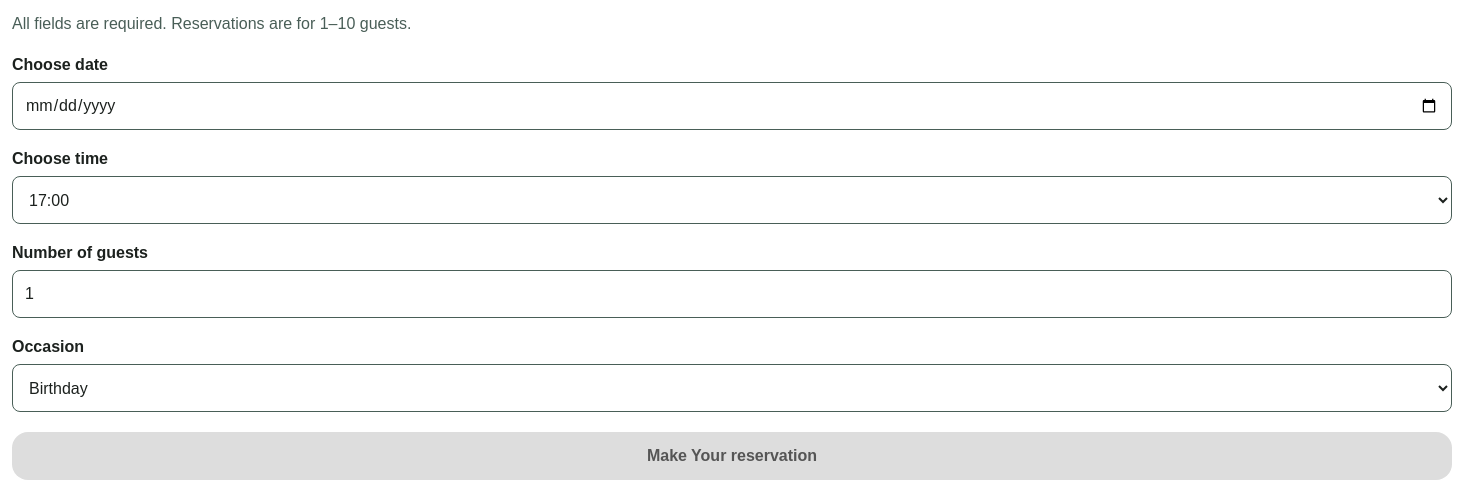
it: submits a valid booking for 10 guests
Later steps or results of the test are not shown.
Type "2026-11-20" into the date field labelled "Choose date" at (732, 106), box [12,82,1452,130]
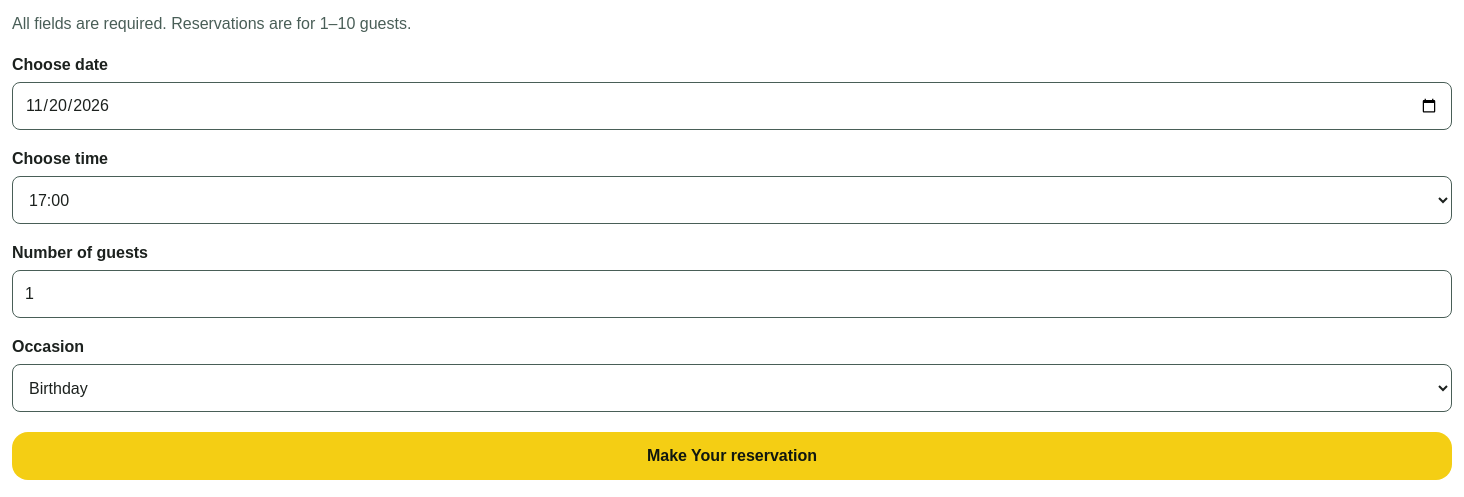
Select "18:00" in the dropdown labelled "Choose time" at (732, 200), box [12,176,1452,224]
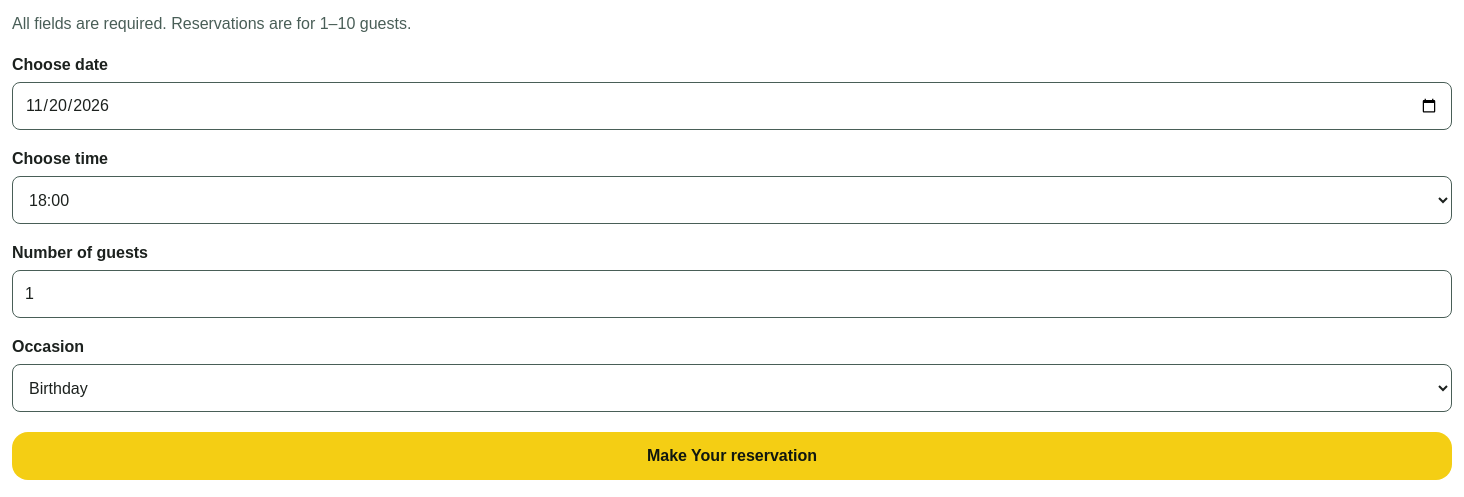
Type "10" into the number field labelled "Number of guests" at (732, 294), box [12,270,1452,318]
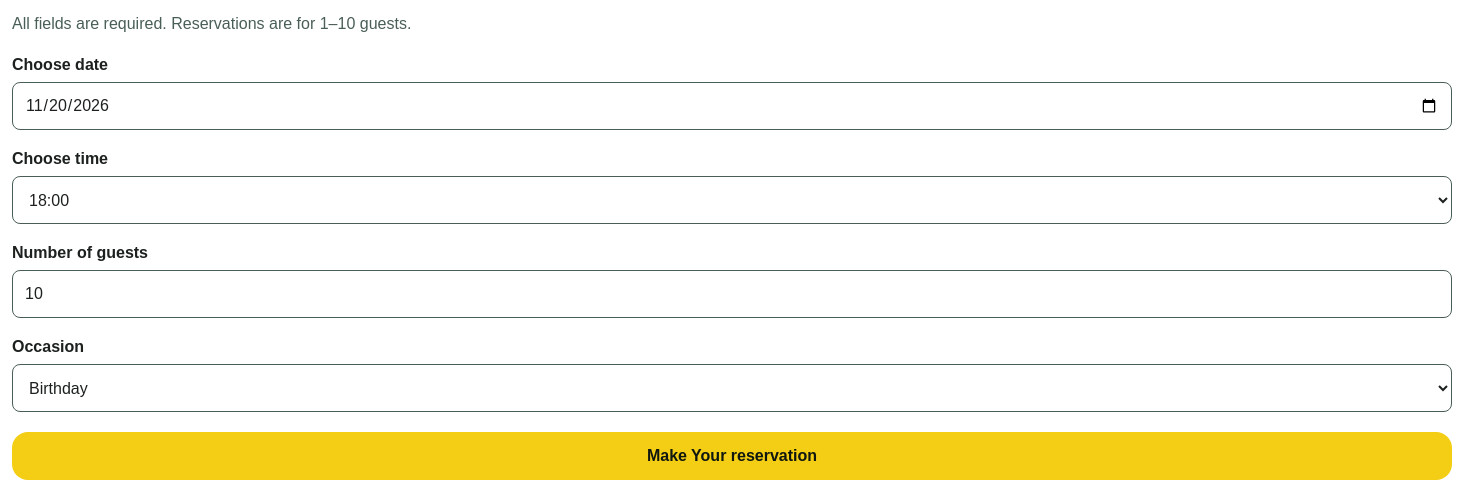
Select "Anniversary" in the dropdown labelled "Occasion" at (732, 388), box [12,364,1452,412]
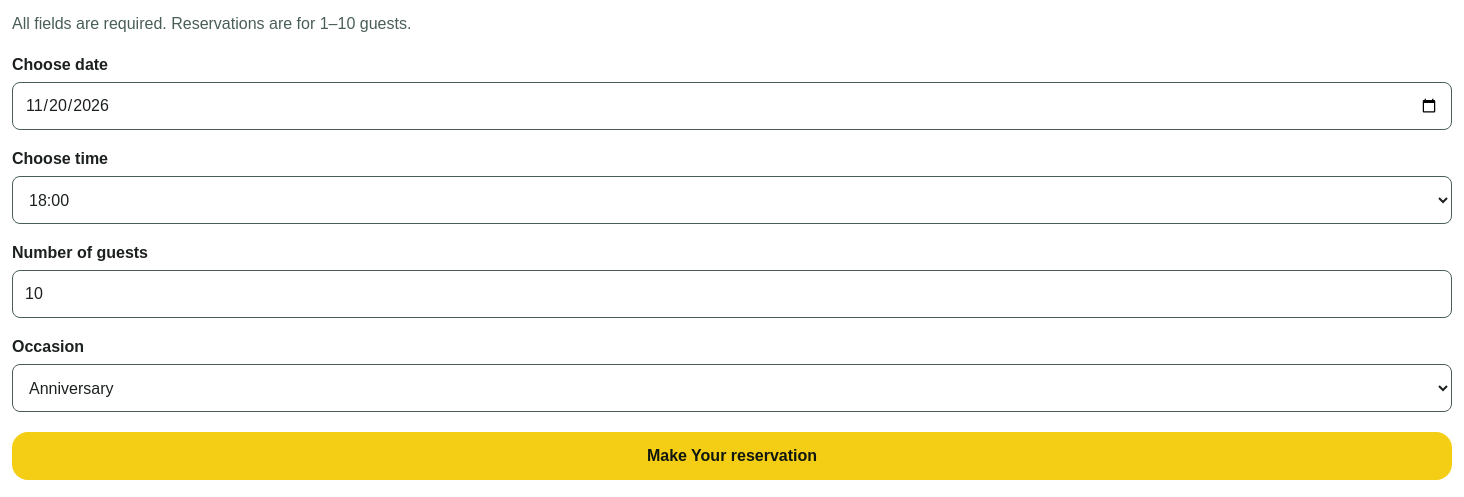
Check: the button "Make Your reservation" is enabled, box [12,432,1452,480]
